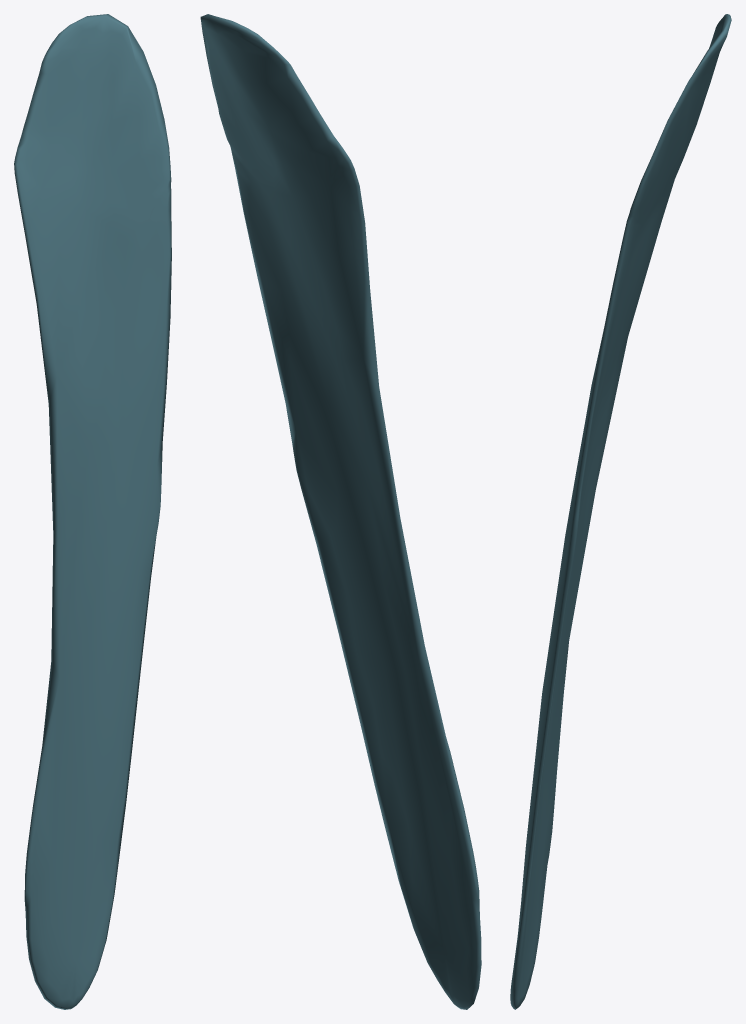
File: Gluteus_maximus_ending_on_gluteal_surface.l_Generated_Mesh_From.glb
The picture shows the model from 3 angles, left to right: view 1: azimuth 30°, elevation 25°; view 2: azimuth 150°, elevation 25°; view 3: azimuth 270°, elevation 25°; orthographic projection. The views are drawn at different scales.
Visible parts, largest first — view 1: Gluteus_maximus_ending_on_gluteal_surface.l_Generated_Mesh_F; view 2: Gluteus_maximus_ending_on_gluteal_surface.l_Generated_Mesh_F; view 3: Gluteus_maximus_ending_on_gluteal_surface.l_Generated_Mesh_F.
Boxes of the visible parts, box(x1,y1,x2,y2) form: Gluteus_maximus_ending_on_gluteal_surface.l_Generated_Mesh_F: box(14, 14, 171, 1009); Gluteus_maximus_ending_on_gluteal_surface.l_Generated_Mesh_F: box(200, 14, 481, 1009); Gluteus_maximus_ending_on_gluteal_surface.l_Generated_Mesh_F: box(510, 14, 731, 1009).
Bounding box in the file's own units: 0.0173 × 0.0797 × 0.0152.
